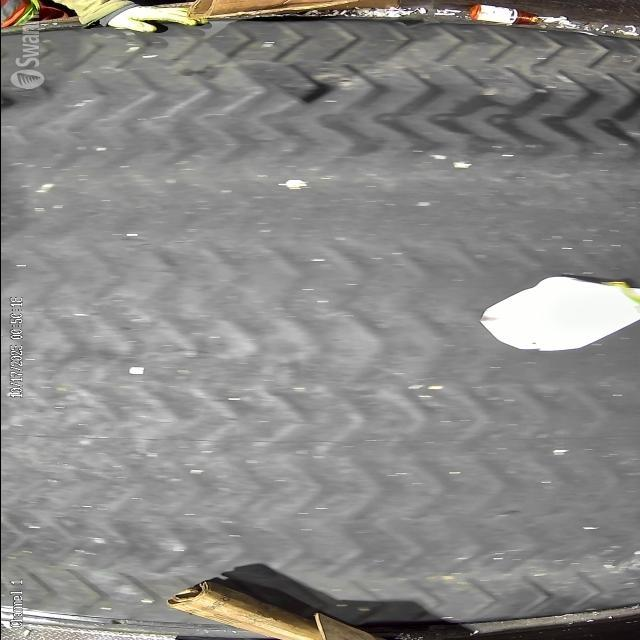milk_jug: (477, 276, 640, 352)
